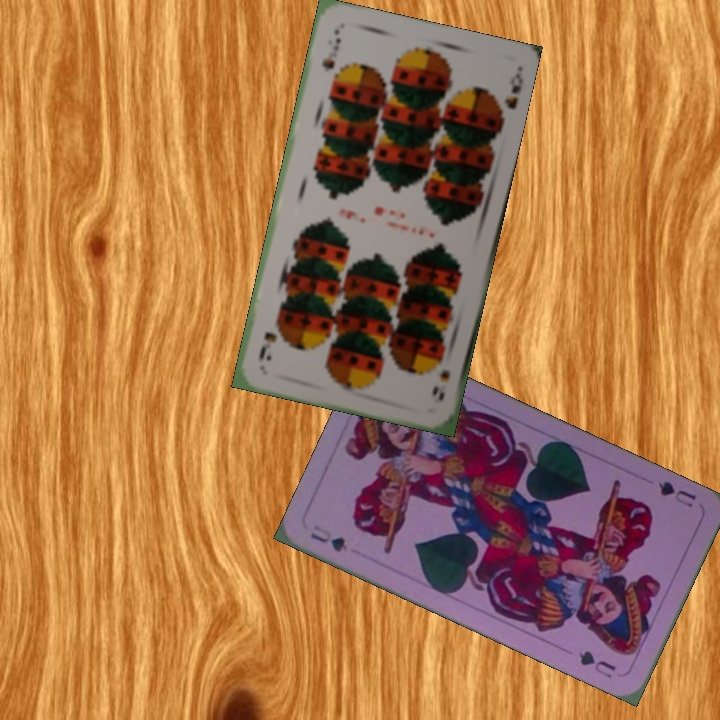GU: (654, 477, 699, 511), (306, 521, 350, 555)
S9: (317, 25, 344, 73), (428, 365, 453, 403)
